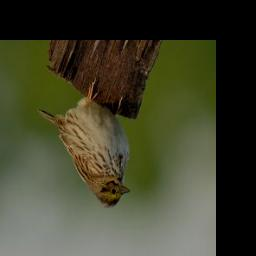Sparrow: (38, 79, 134, 210)
